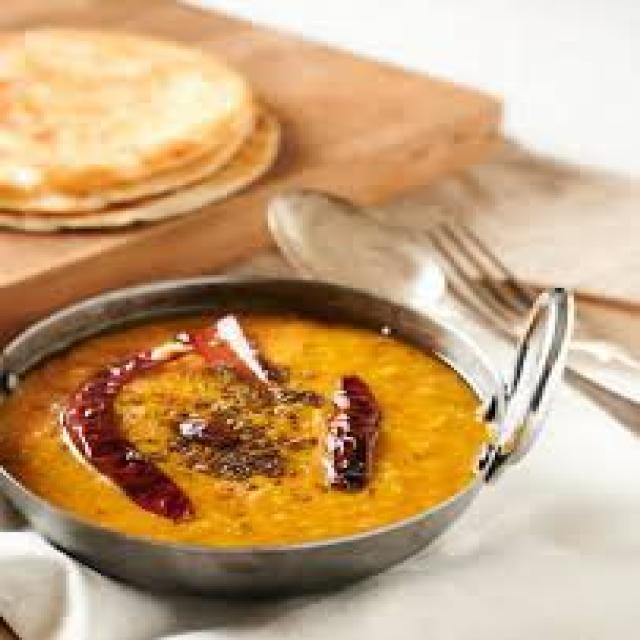dal: (18, 343, 472, 508)
